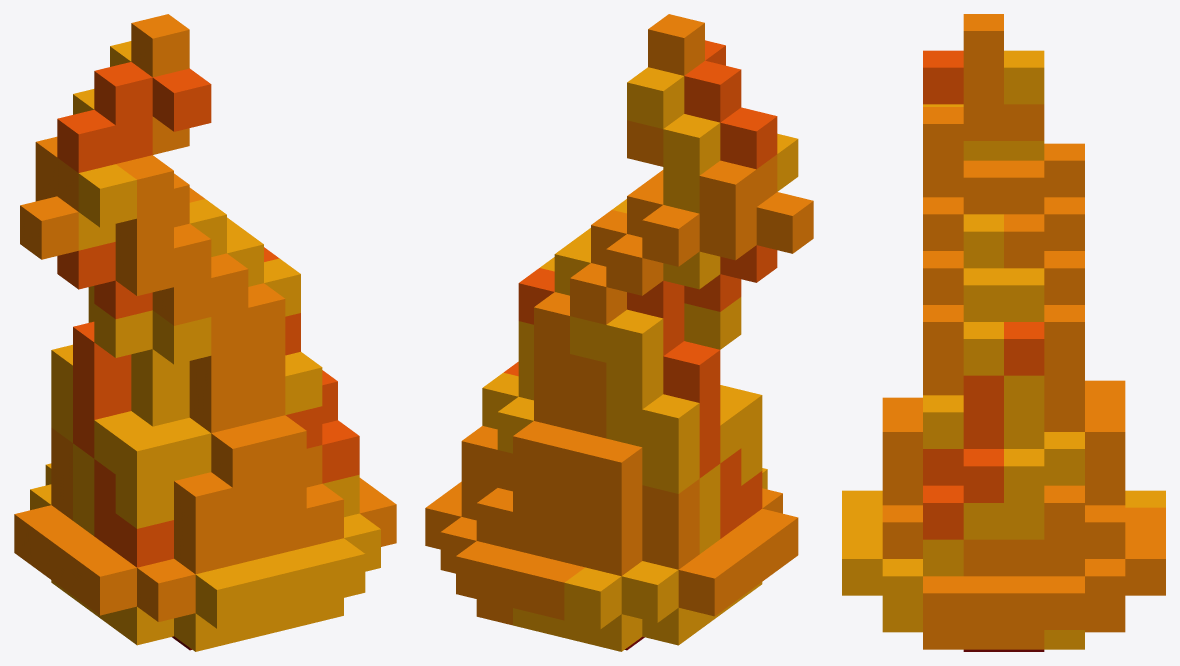
File: tampon-0.obj
3 views of the same model, side by side, from view 1: azimuth 30°, elevation 25°; view 2: azimuth 150°, elevation 25°; view 3: azimuth 270°, elevation 25° (orthographic). The views are drawn at different scales.
Size of the model in its own units: 0.9 by 1.6 by 0.8.
